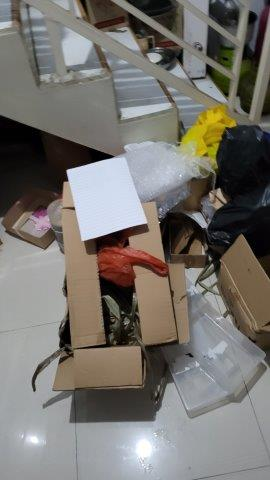kertas: (66, 153, 150, 242)
